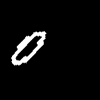chain: (12, 32, 45, 64)
